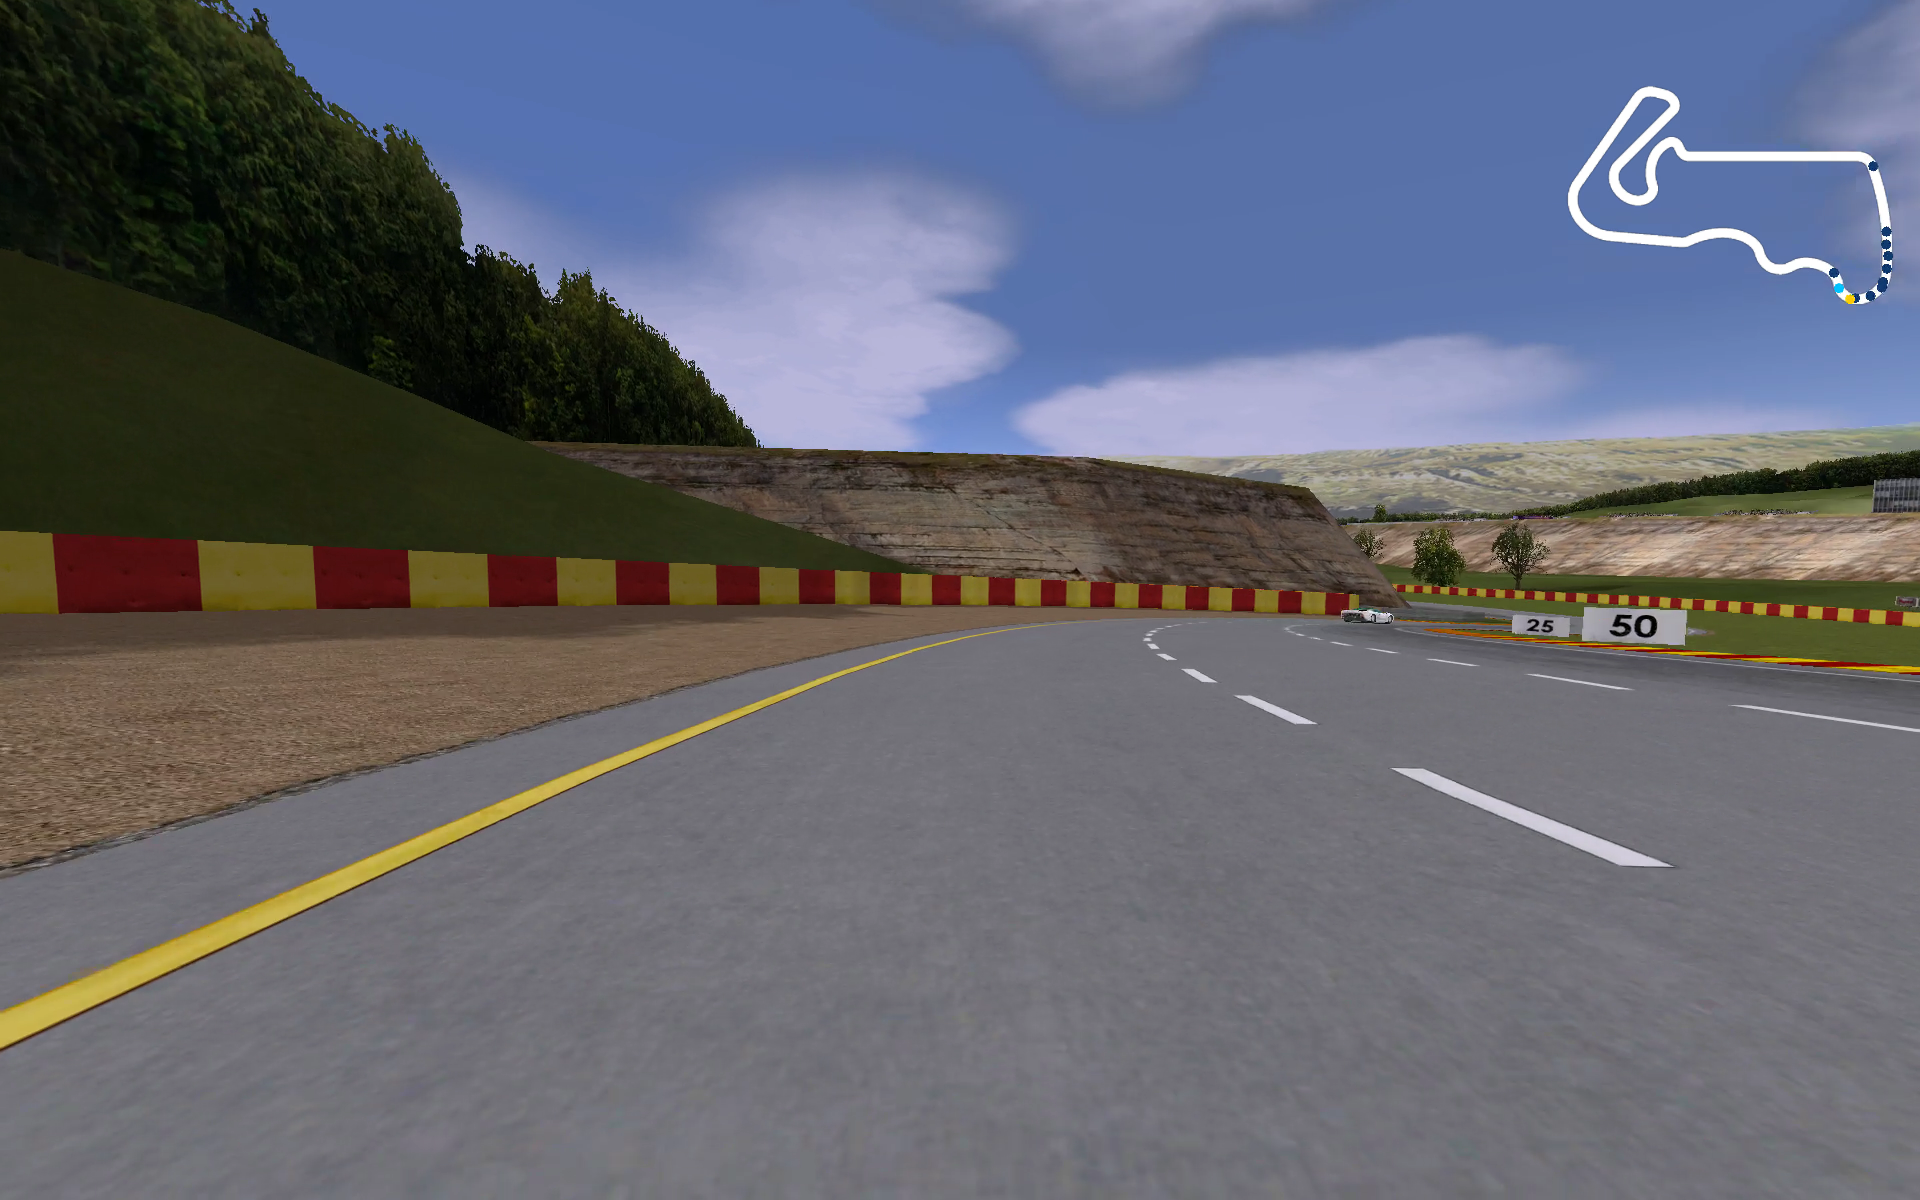car: (1337, 601, 1404, 628)
